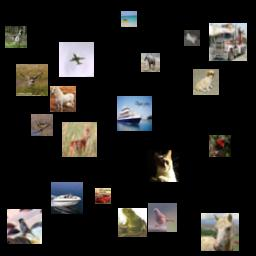airplane: (59, 42, 94, 77)
automobile: (95, 188, 111, 204)
bird: (7, 209, 42, 244), (148, 203, 177, 232), (31, 114, 53, 136), (209, 135, 231, 157)
cat: (147, 150, 179, 182)
deer: (62, 122, 97, 157), (16, 64, 48, 96)
dog: (193, 69, 219, 95), (5, 26, 27, 48), (184, 30, 200, 46)
frog: (118, 208, 147, 237)
ship: (117, 96, 152, 131), (51, 182, 83, 214), (121, 11, 137, 27)
truck: (209, 23, 247, 61)
